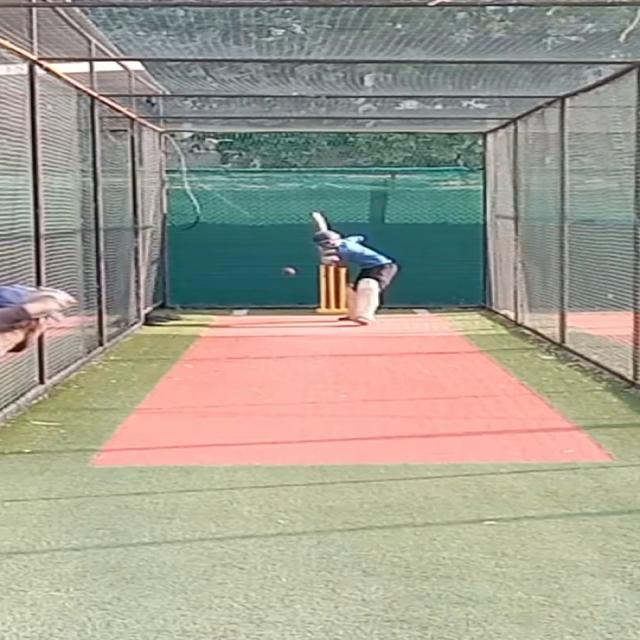ball: (278, 265, 298, 277)
stump: (314, 264, 346, 313)
